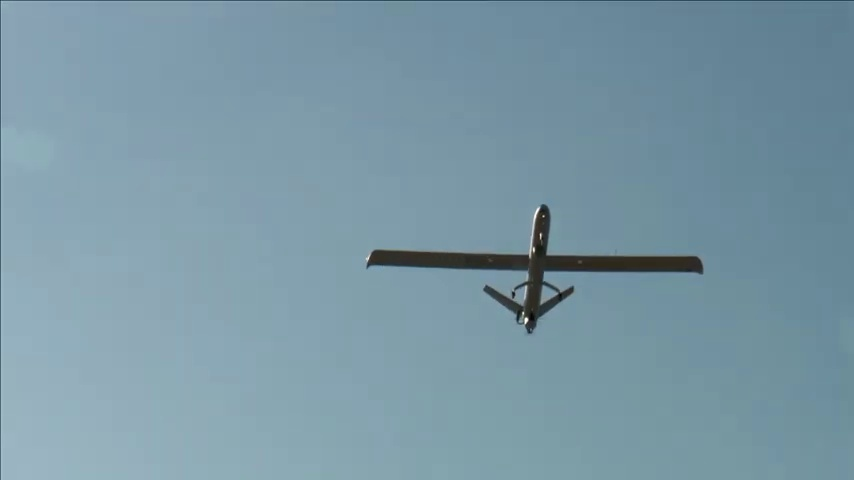military drone: (365, 203, 703, 335)
